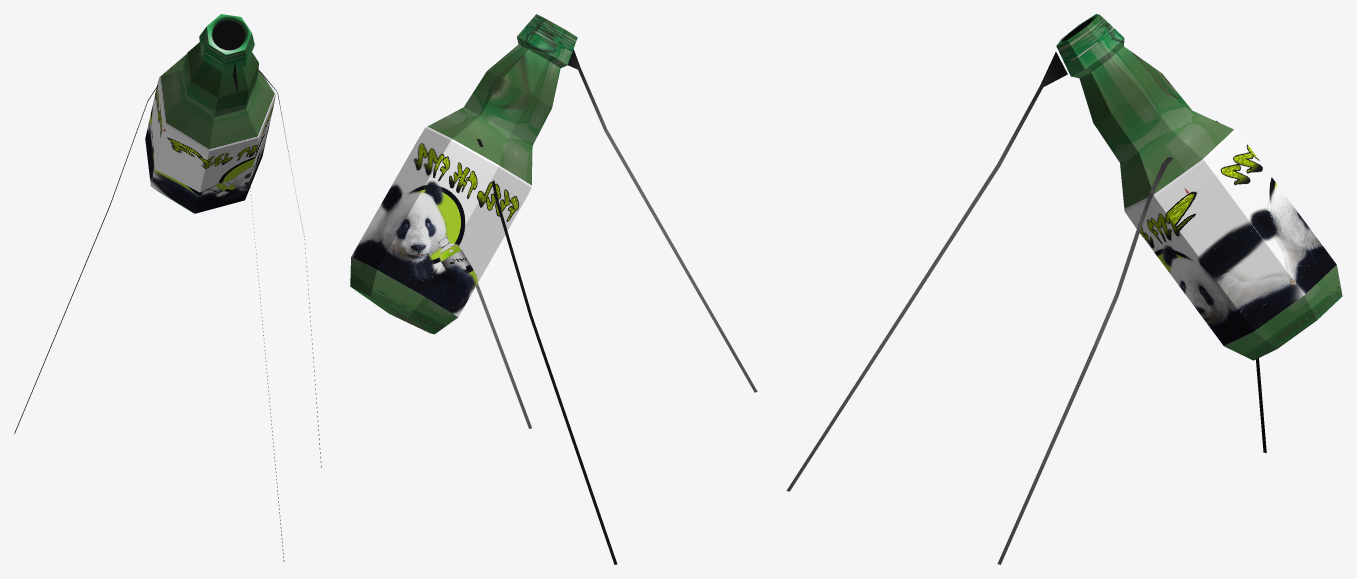
Rendered from Inflatable04.fbx.
3 views of the same model, side by side, from view 1: azimuth 30°, elevation 25°; view 2: azimuth 150°, elevation 25°; view 3: azimuth 270°, elevation 25° (orthographic). The views are drawn at different scales.
Visible parts, largest first — view 1: Empty_Mesh; view 2: Empty_Mesh; view 3: Empty_Mesh.
Part boxes in pixels (x1,y1,x2,y2): Empty_Mesh: [14, 14, 321, 561]; Empty_Mesh: [350, 14, 757, 564]; Empty_Mesh: [786, 14, 1342, 564].
Size of the model in its own units: 812 by 1389 by 1355.
